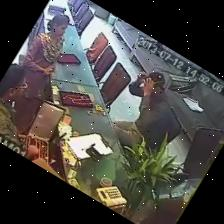person: (15, 15, 69, 133), (114, 72, 170, 148), (0, 64, 27, 147)
